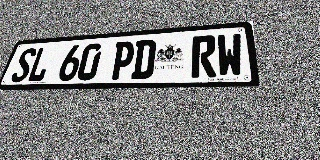0: (75, 43, 103, 81)
6: (57, 44, 84, 81)
D: (131, 39, 157, 79)
L: (26, 47, 54, 82)
P: (109, 41, 136, 80)
R: (191, 35, 216, 78)
S: (9, 48, 38, 82)
W: (217, 33, 244, 77)
